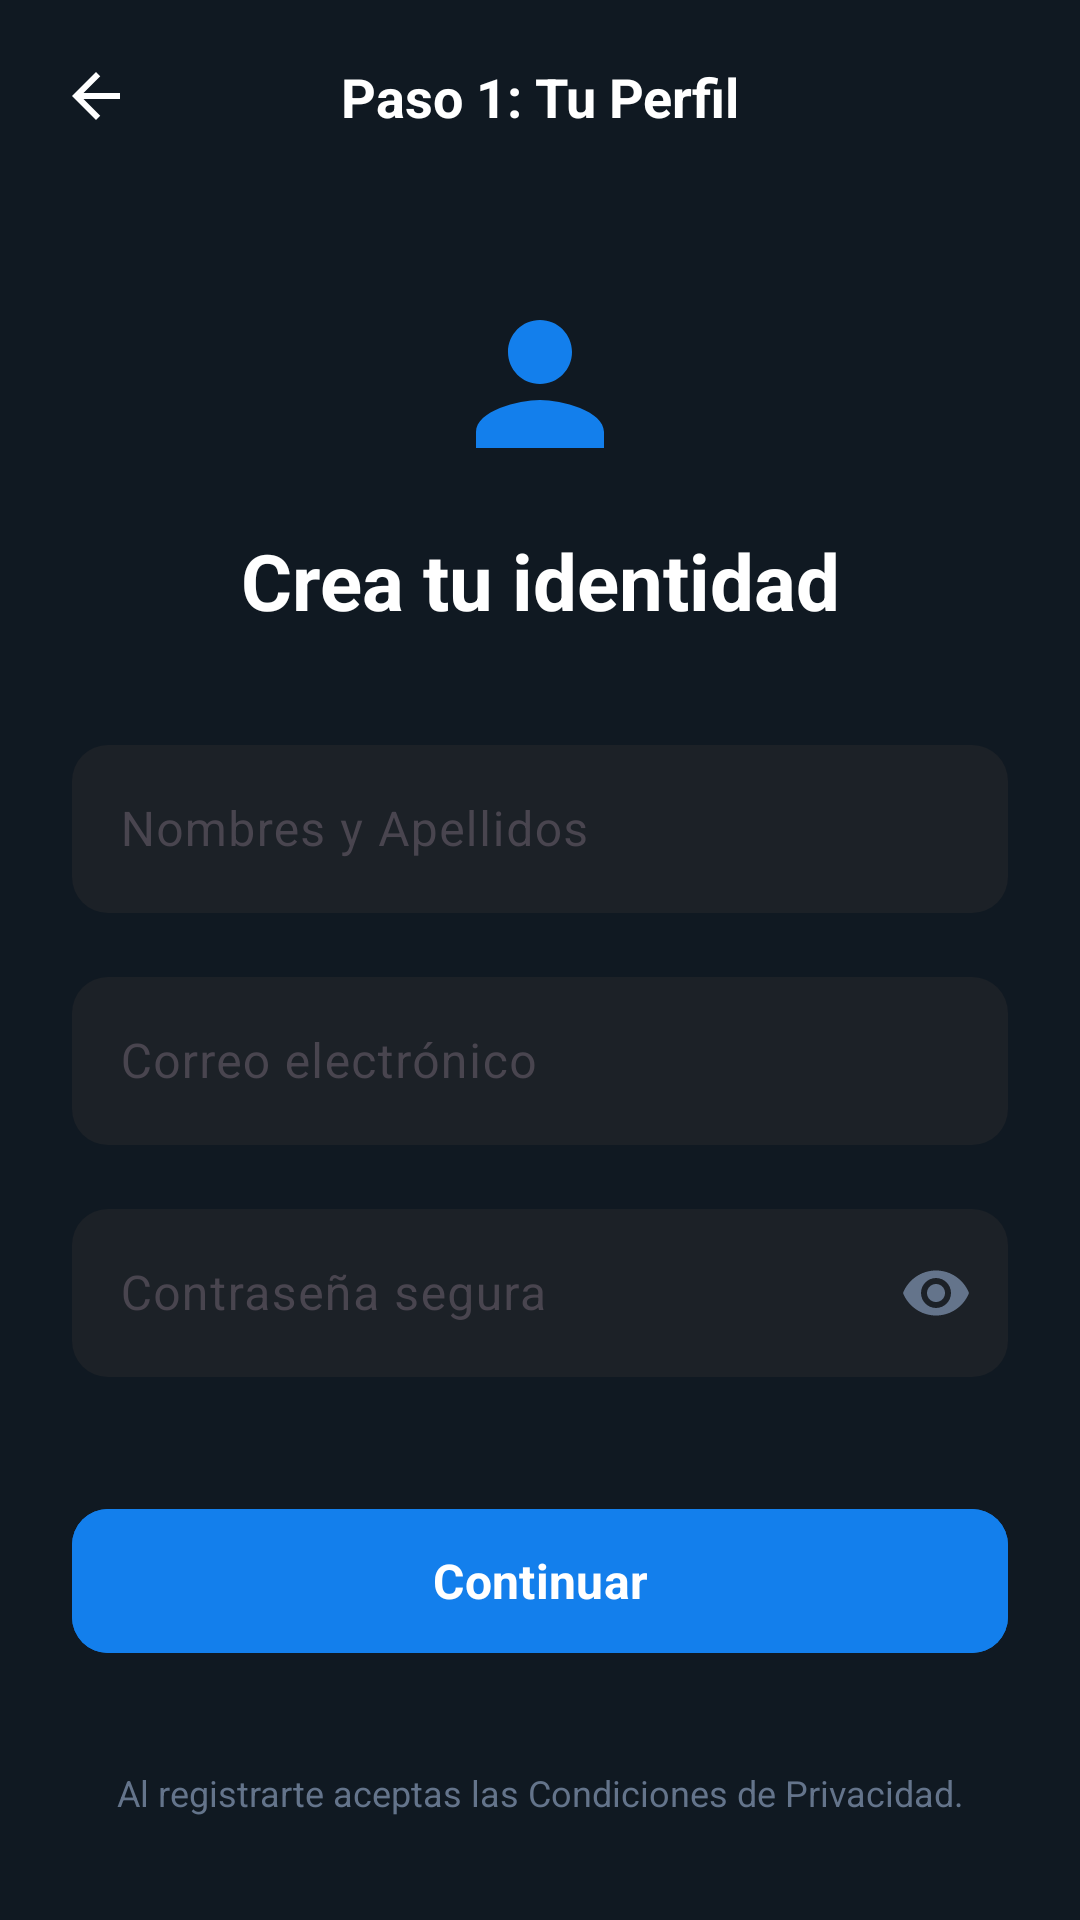

Icon bounding boxes for this 1080w x 1920h phone screenshot, format {"left": x1, "top": y1, "right": x2, "bottom": y2}:
arrow back: {"left": 72, "top": 72, "right": 120, "bottom": 120}
person: {"left": 476, "top": 320, "right": 604, "bottom": 448}
